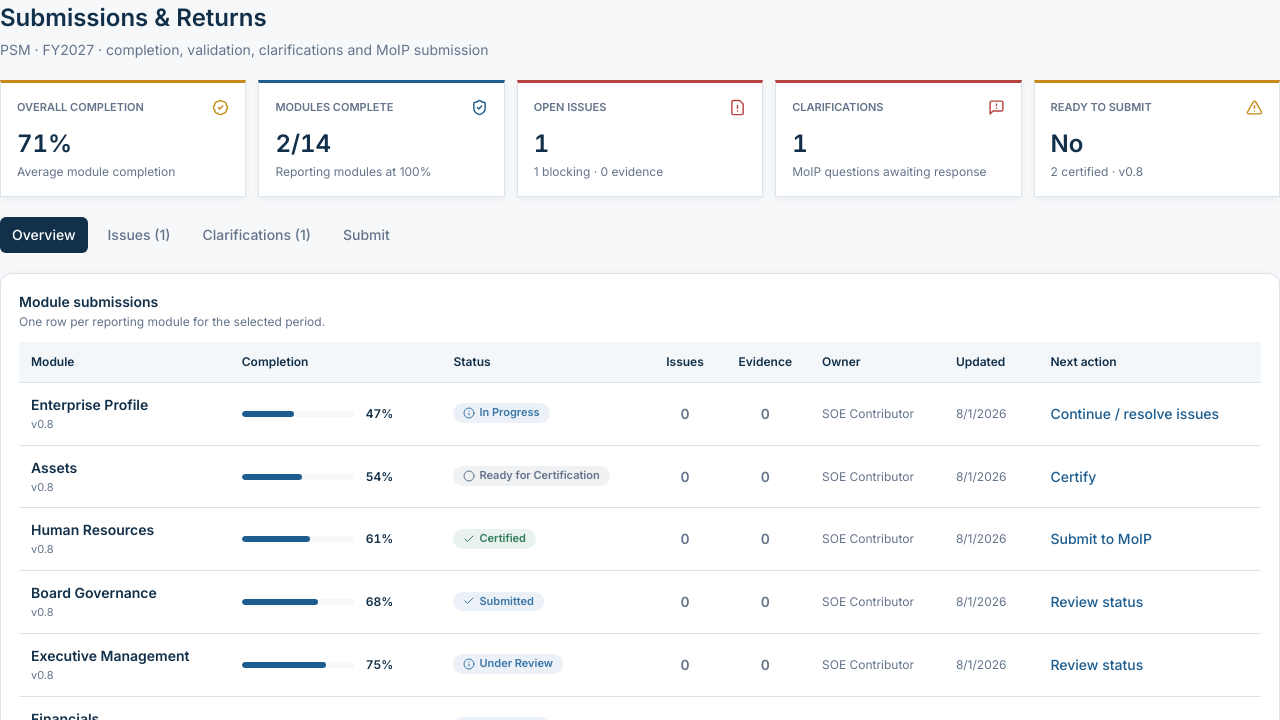
SOE Data Entry submissions and returns › opens submission review drawer when a module row is clicked
Click the button with aria-label "Review Enterprise Profile submission".
click(90, 404)  # box [19,382,1261,445]
(page scrolled)
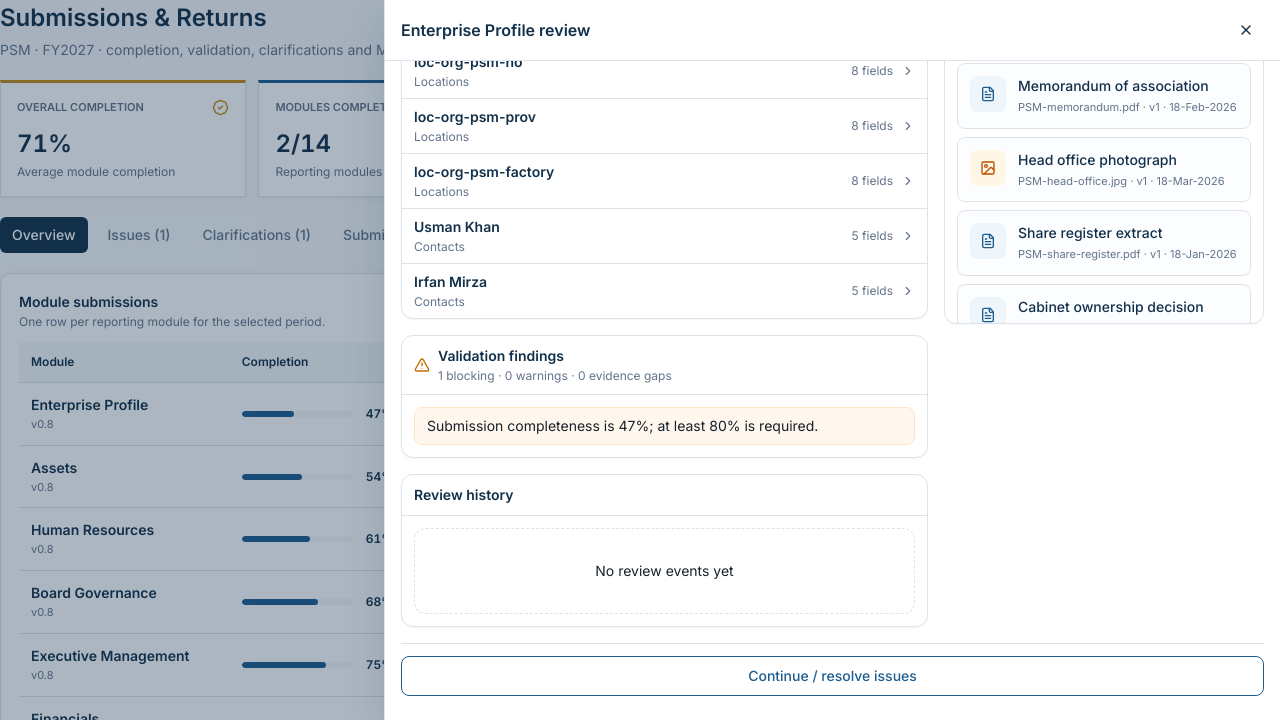
Expected: the dialog is shown
Expected: the heading "Enterprise Profile review" is shown, [401,18,590,42]
Expected: the heading "Review history" is shown, [414,486,514,503]
